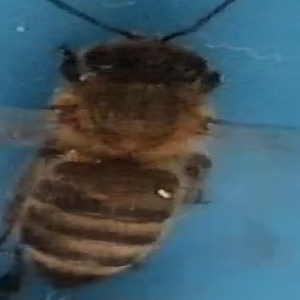bee: (5, 6, 230, 298)
